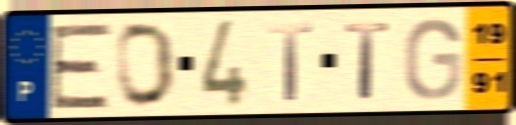4: (198, 16, 252, 110)
E: (48, 20, 114, 111)
G: (401, 15, 464, 103)
O: (115, 19, 178, 110)
T: (341, 19, 393, 102), (267, 20, 316, 103)
